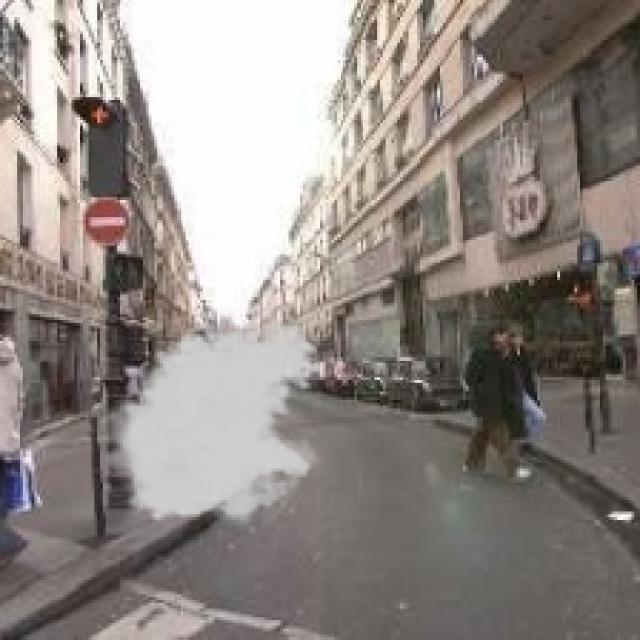smoke: (94, 320, 326, 534)
